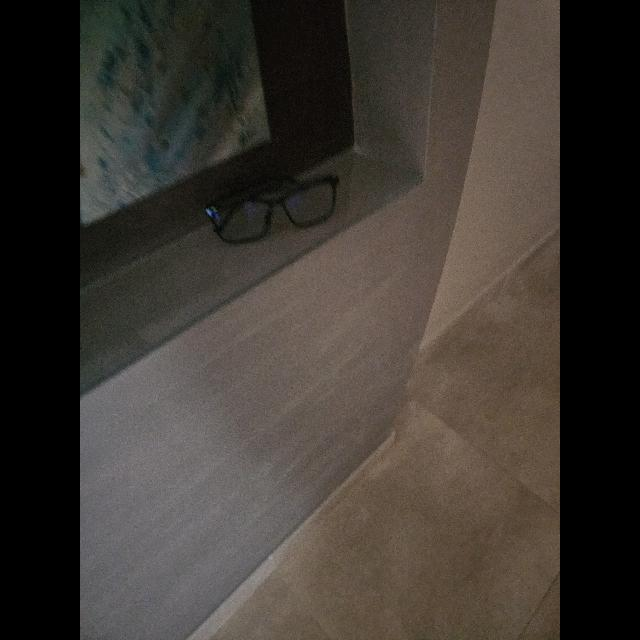glasses: (205, 175, 339, 242)
